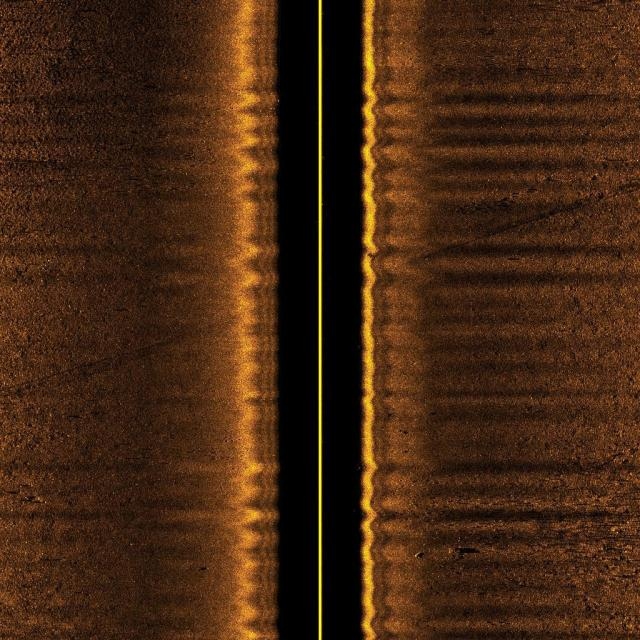mine: (412, 552, 425, 560)
other: (444, 546, 482, 555)
